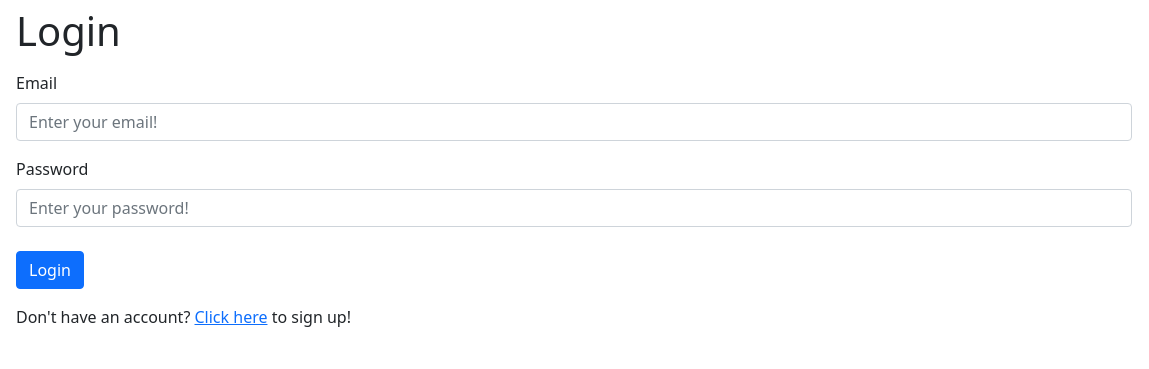
Scenario: login page tests › filling the email but leaving the password field empty yields one error
Type "email" into the field labelled "Email" at (574, 122), box 16,103 -> 1132,141
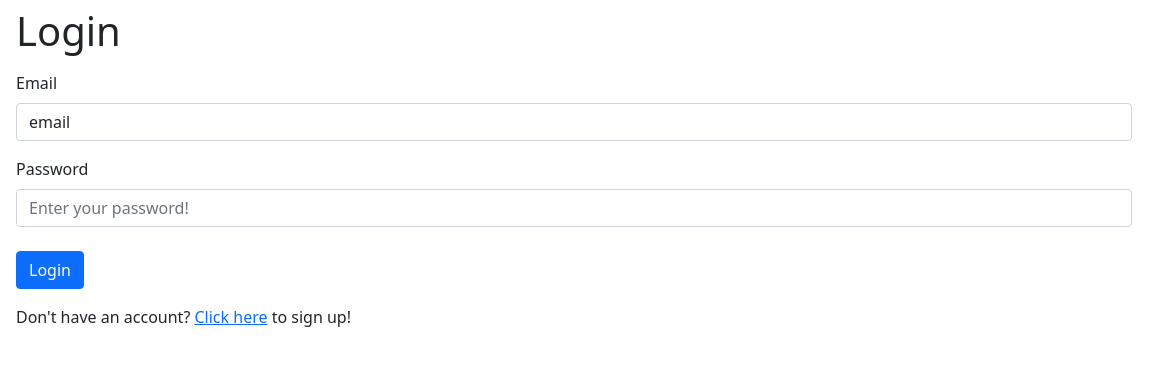
Click the button "Login" at (50, 270), box 16,251 -> 84,289
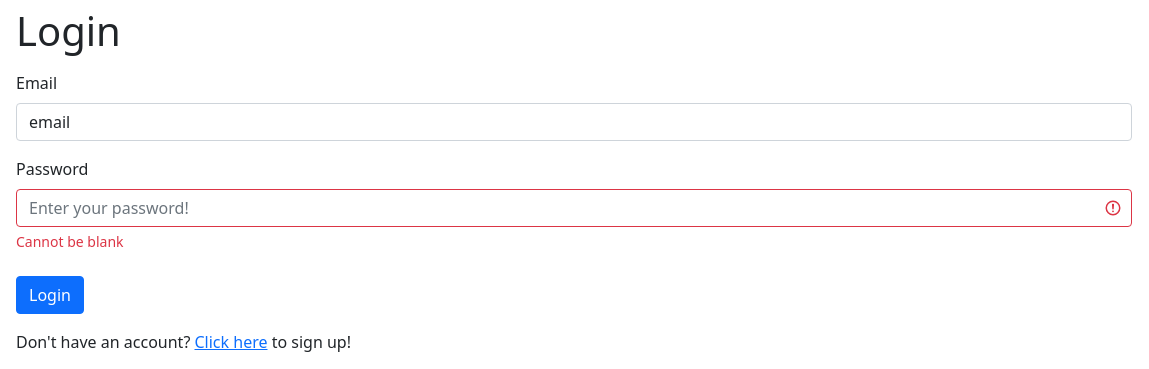
Expected: the element with test id "input" does not show "Cannot be blank", 16,71 -> 1132,141
Now the element with test id "input" shows "Cannot be blank", box 16,232 -> 124,251
